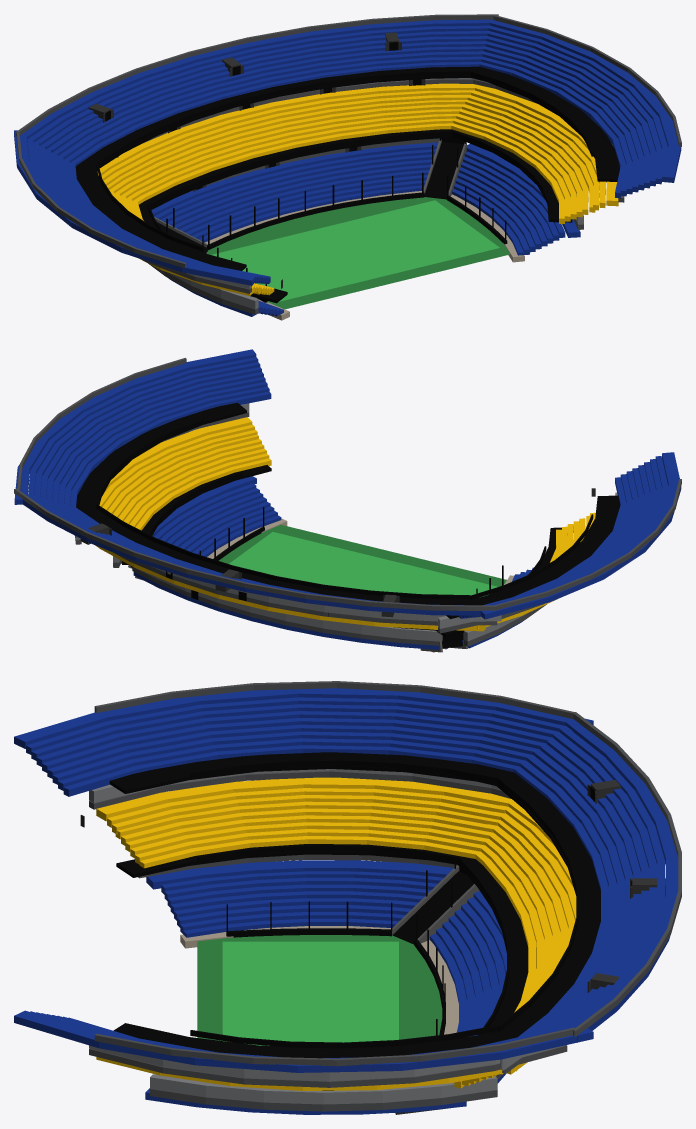
The model's file is Cancha boca 1.fbx.
3 renders of one model, top to bottom at view 1: azimuth 30°, elevation 25°; view 2: azimuth 150°, elevation 25°; view 3: azimuth 270°, elevation 25°, orthographic. The views are drawn at different scales.
Visible parts, largest first — view 1: Cancha, Cubo.139, Cubo.149, Cubo.144, Cubo.087, Cubo.152, Borde cancha.003, Cubo.148, Cubo.185, Cubo.186, Cubo.143, Cubo.153 (+77 smaller); view 2: Cancha, Cubo.144, Cubo.152, Cubo.153, Cubo.186, Cubo.139, Cubo.149, Cubo.185, Borde cancha.002, Cubo.013, Cubo.098, Cubo.161 (+45 smaller); view 3: Cancha, Cubo.139, Cubo.185, Cubo.153, Cubo.186, Cubo.075, Cubo.128, Cubo.149, Cubo.152, Cubo.177, Cubo.178, Cubo.179 (+71 smaller).
Part boxes in pixels (bbox=[...]): Cancha: bbox=[211, 200, 499, 301]; Cubo.139: bbox=[81, 66, 484, 170]; Cubo.149: bbox=[26, 20, 489, 138]; Cubo.144: bbox=[15, 14, 498, 136]; Cubo.087: bbox=[97, 83, 487, 175]; Cubo.152: bbox=[471, 66, 619, 181]; Borde cancha.003: bbox=[206, 197, 440, 254]; Cubo.148: bbox=[33, 26, 488, 142]; Cubo.185: bbox=[14, 130, 255, 285]; Cubo.186: bbox=[75, 163, 246, 270]; Cubo.143: bbox=[63, 51, 482, 159]; Cubo.153: bbox=[479, 19, 681, 182]; Cancha: bbox=[229, 532, 497, 597]; Cubo.144: bbox=[14, 488, 496, 610]; Cubo.152: bbox=[76, 402, 246, 509]; Cubo.153: bbox=[14, 349, 256, 504]; Cubo.186: bbox=[446, 495, 620, 619]; Cubo.139: bbox=[80, 503, 482, 605]; Cubo.149: bbox=[23, 494, 480, 615]; Cubo.185: bbox=[480, 452, 681, 619]; Borde cancha.002: bbox=[267, 525, 506, 586]; Cubo.013: bbox=[135, 568, 442, 641]; Cubo.098: bbox=[95, 504, 470, 599]; Cubo.161: bbox=[28, 357, 258, 497]; Cancha: bbox=[222, 941, 398, 1045]; Cubo.139: bbox=[490, 777, 600, 1038]; Cubo.185: bbox=[14, 688, 593, 748]; Cubo.153: bbox=[14, 1010, 593, 1072]; Cubo.186: bbox=[109, 752, 519, 793]; Cubo.075: bbox=[150, 1074, 497, 1104]; Cubo.128: bbox=[96, 777, 512, 821]; Cubo.149: bbox=[566, 722, 678, 1042]; Cubo.152: bbox=[113, 1023, 512, 1058]; Cubo.177: bbox=[26, 697, 573, 754]; Cubo.178: bbox=[31, 704, 564, 760]; Cubo.179: bbox=[36, 711, 558, 766].
Size of the model in its own units: 35598 by 6977 by 26495.
